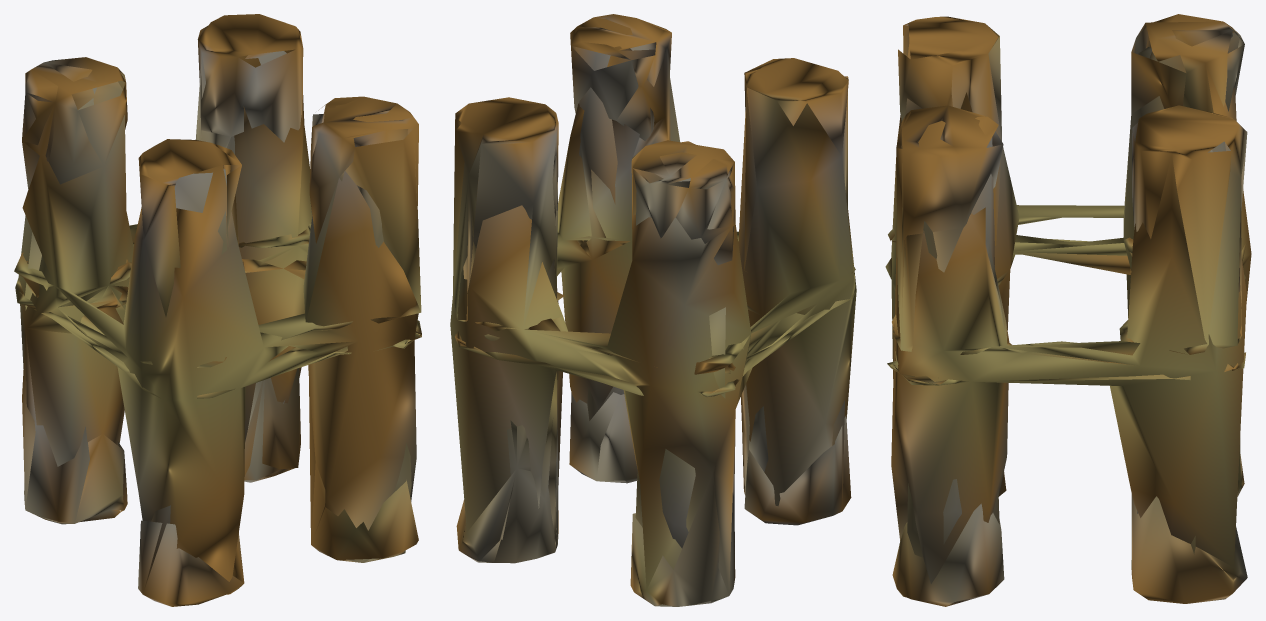
Rendered from gen3d-dock-piling-lod1.glb.
The picture shows the model from 3 angles, left to right: view 1: azimuth 30°, elevation 25°; view 2: azimuth 150°, elevation 25°; view 3: azimuth 270°, elevation 25°; orthographic projection. The views are drawn at different scales.
Visible parts, largest first — view 1: part_0; view 2: part_0; view 3: part_0.
Part boxes in pixels (x1,y1,x2,y2): part_0: (14,14,421,606); part_0: (450,14,856,606); part_0: (885,14,1251,606).
Size of the model in its own units: 0.6861 by 0.9999 by 0.7139.
